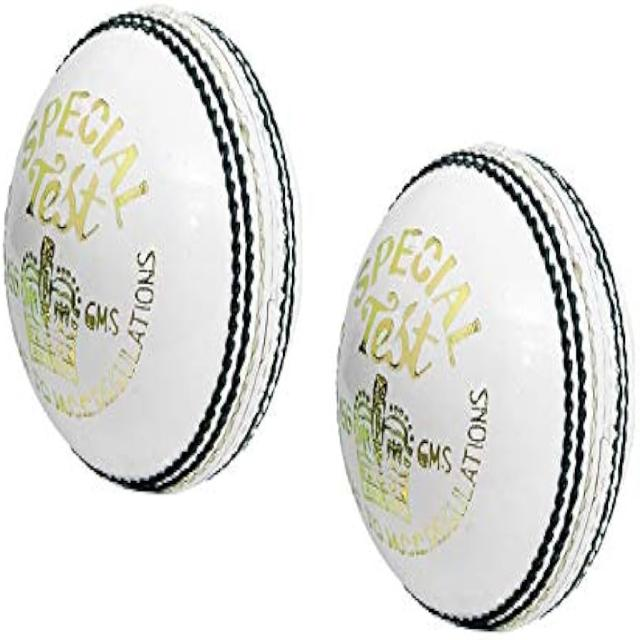ball: (334, 142, 640, 634), (4, 6, 300, 507)
